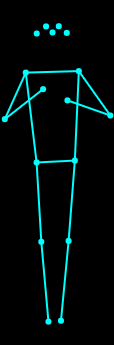mountain: (1, 18, 114, 326)
